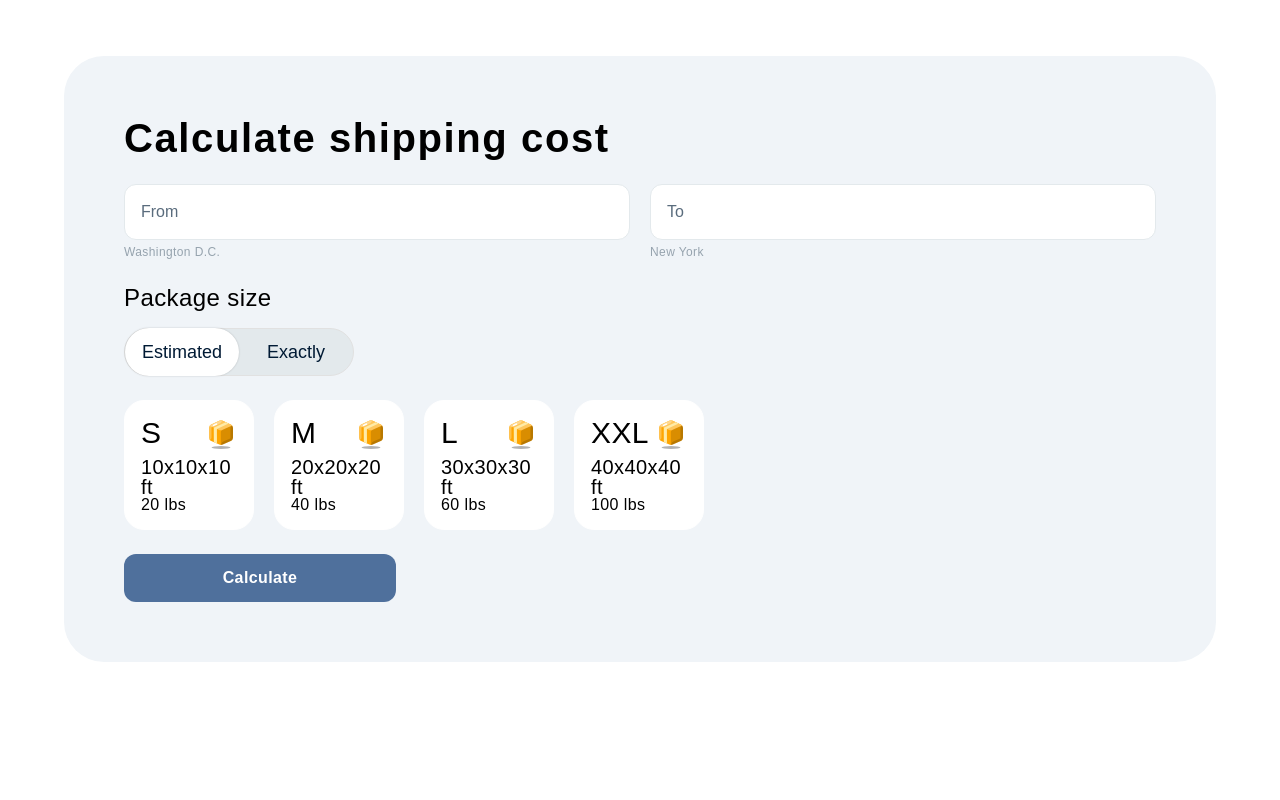
Test case: Calculator › should select a suggestion when clicked
The image size is (1280, 800).
Type "fa" into the field labelled "To" at (903, 212), box [651,185,1155,239]
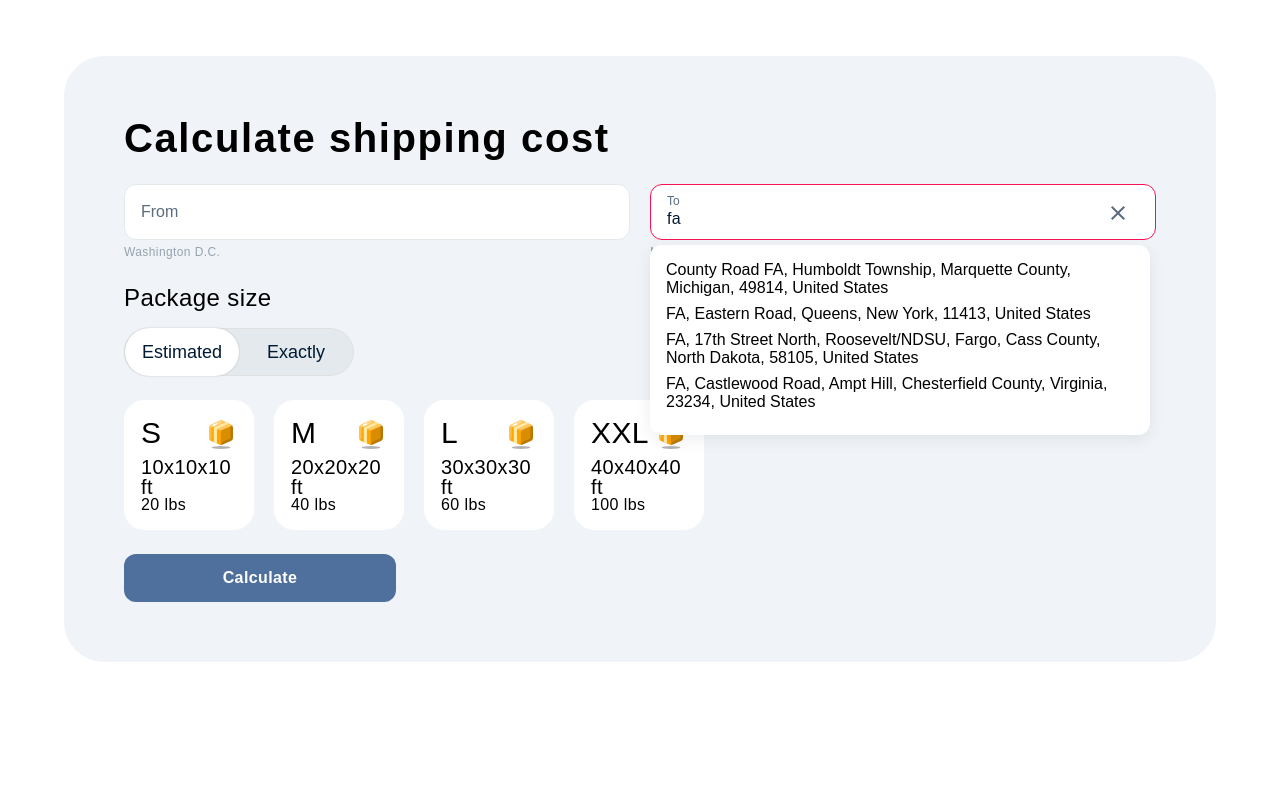
Click the 1st list item with test id "suggestion-item" at (900, 279), box [666,261,1134,297]
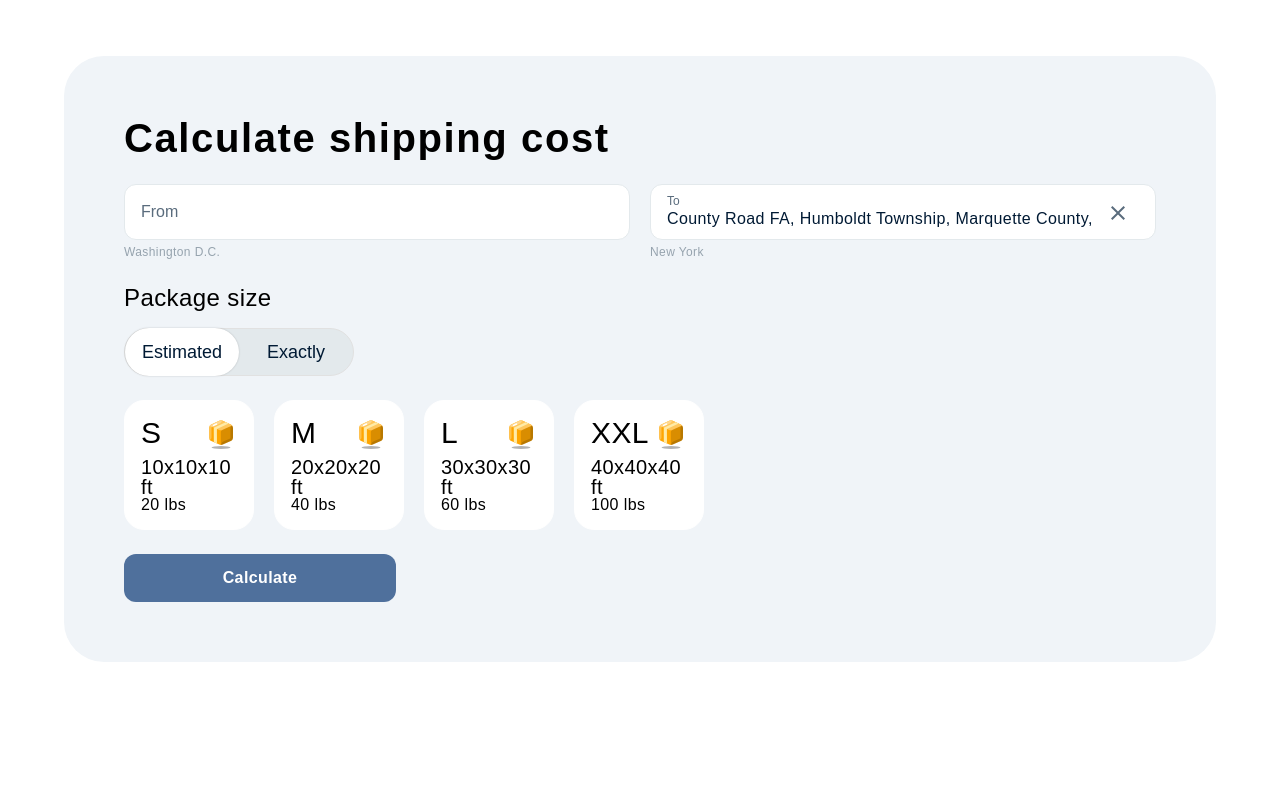
Now the field labelled "To" holds "County Road FA, Humboldt Township, Marquette County, Michigan, 49814, United States", box [651,185,1155,239]
Now no list items with test id "suggestion-item" are shown
